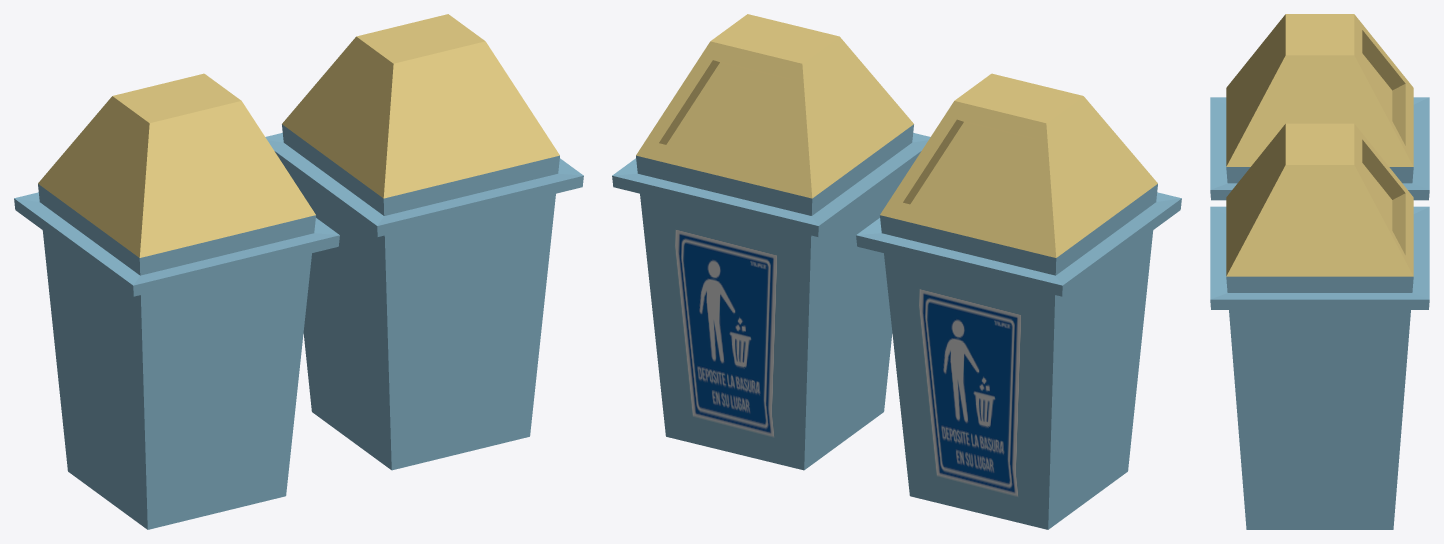
The model's file is botesbasura.obj.
3 views of the same model, side by side, from view 1: azimuth 30°, elevation 25°; view 2: azimuth 150°, elevation 25°; view 3: azimuth 270°, elevation 25° (orthographic). The views are drawn at different scales.
Visible parts, largest first — view 1: Cube.001, Cube.002; view 2: Cube.001, Cube.002; view 3: Cube.002, Cube.001.
Part boxes in pixels (x1,y1,x2,y2): Cube.001: [14, 73, 339, 529]; Cube.002: [265, 14, 583, 470]; Cube.001: [856, 73, 1181, 529]; Cube.002: [612, 14, 930, 470]; Cube.002: [1210, 123, 1429, 529]; Cube.001: [1210, 14, 1429, 200].
Size of the model in its own units: 5.11 by 4.18 by 2.34.
